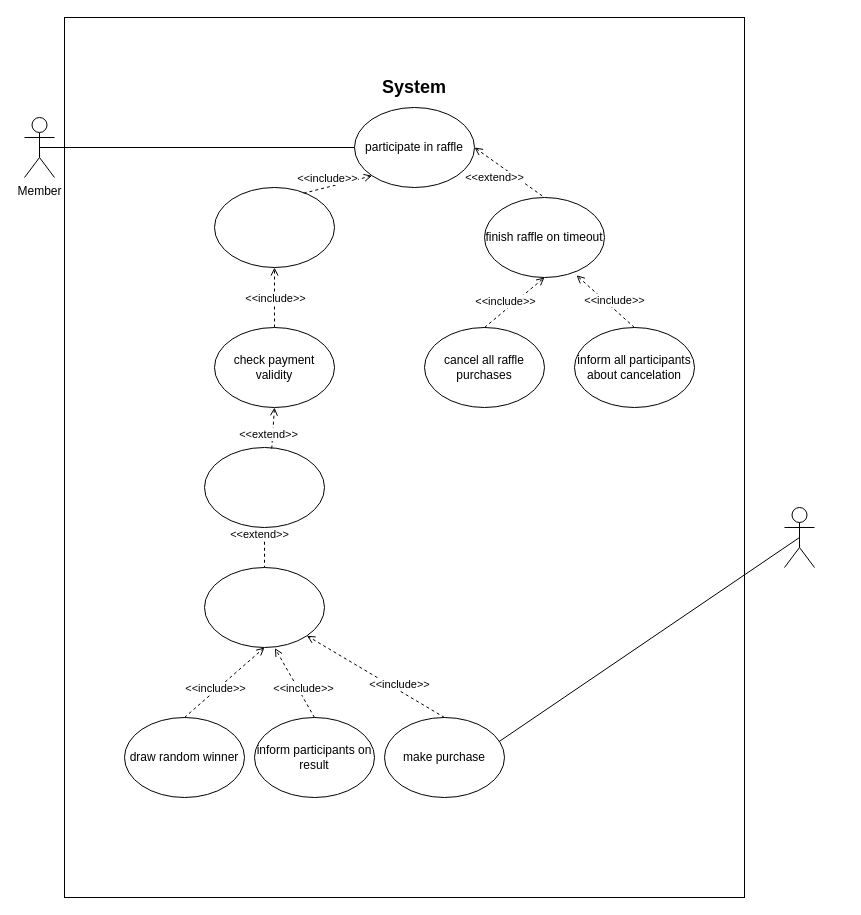
This 861x915 diagram has some shape labels left out. The shapes that lost their labels are listed below. From the top down, each one's centre as x and y in pixels, then its label:
At pixel 274 227: "enter raffle".
At pixel 264 487: "successfully updated raffle details".
At pixel 799 537: "Payment system".
At pixel 264 607: "finish raffle on reaching total price".
